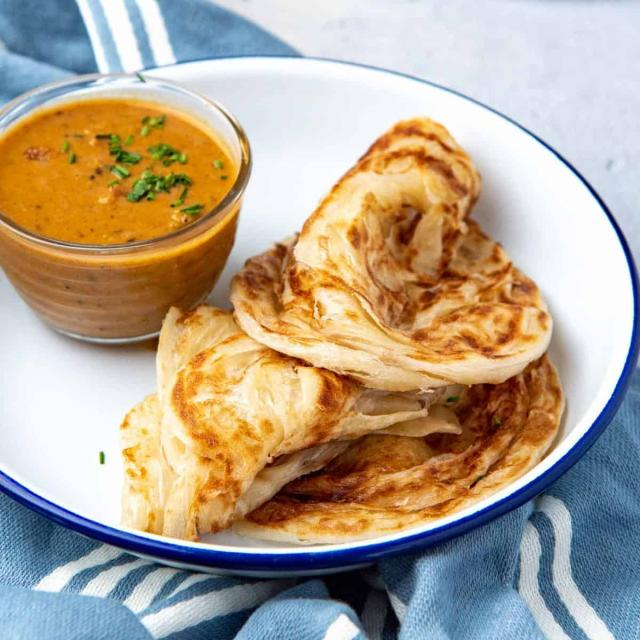ROTI: (82, 118, 571, 540)
